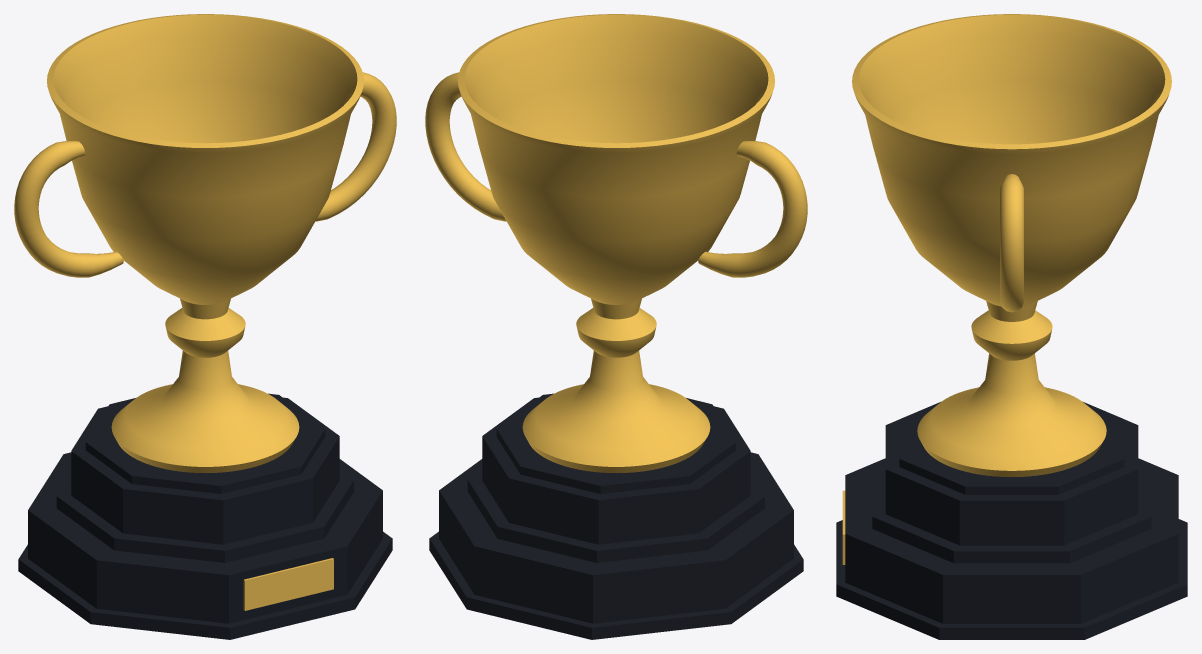
Rendered from coupe-DOILhcTn.glb.
3 views of the same model, side by side, from view 1: azimuth 30°, elevation 25°; view 2: azimuth 150°, elevation 25°; view 3: azimuth 270°, elevation 25° (orthographic).
Parts seen in each view (by area): view 1: or, socle; view 2: or, socle; view 3: or, socle.
Part boxes in pixels (x1=…): or: x1=14, y1=14, x2=396, y2=610; socle: x1=18, y1=393, x2=392, y2=639; or: x1=425, y1=14, x2=807, y2=473; socle: x1=429, y1=393, x2=803, y2=639; or: x1=842, y1=14, x2=1171, y2=564; socle: x1=836, y1=402, x2=1187, y2=639.
Bounding box in the file's own units: 1.96 × 2.38 × 1.56.
